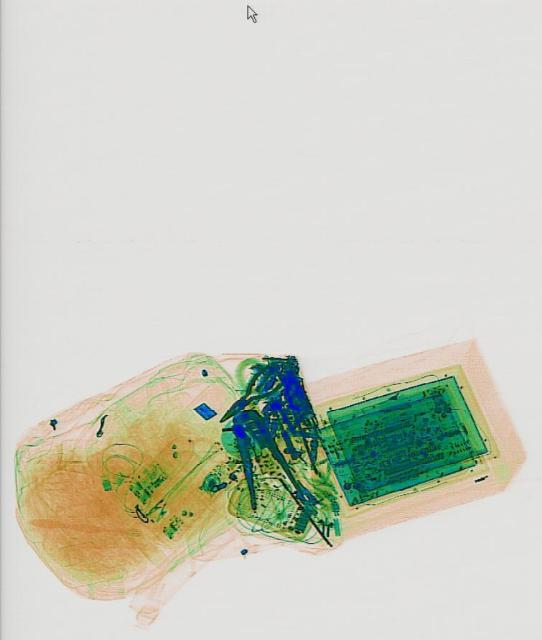Pliers: (217, 400, 301, 518), (210, 361, 284, 433)
